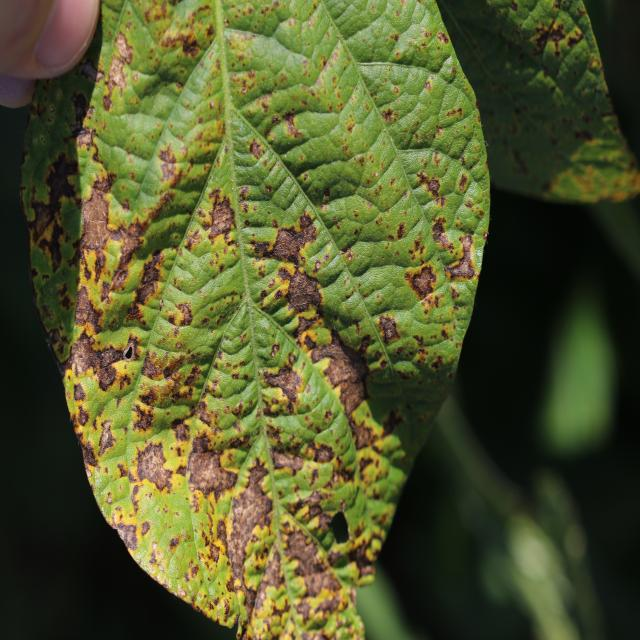Bacterial_Blight: (224, 458, 273, 601), (186, 439, 233, 498), (80, 183, 112, 262), (43, 150, 79, 217), (320, 345, 366, 397), (102, 36, 134, 105), (278, 520, 323, 569), (130, 250, 166, 309), (209, 180, 240, 248), (134, 439, 173, 493), (262, 363, 303, 410), (143, 187, 185, 229), (286, 267, 323, 313), (271, 226, 313, 266), (444, 234, 479, 282), (113, 227, 144, 277), (299, 570, 342, 606), (347, 532, 379, 577), (73, 284, 100, 333), (69, 332, 99, 376), (270, 450, 308, 477), (31, 199, 55, 239), (156, 150, 182, 186), (410, 265, 435, 298), (97, 420, 118, 457), (376, 314, 401, 344), (96, 361, 120, 392), (131, 404, 155, 434), (70, 91, 89, 128), (431, 218, 453, 248), (114, 32, 134, 63), (116, 523, 138, 550), (283, 114, 303, 139), (78, 59, 98, 83), (174, 302, 193, 327), (313, 442, 335, 463), (93, 173, 113, 196), (82, 438, 97, 467), (76, 128, 94, 151), (112, 268, 130, 290), (159, 145, 178, 165), (182, 38, 200, 58), (459, 233, 474, 256), (425, 177, 442, 197), (207, 541, 221, 564), (249, 139, 265, 159), (73, 381, 87, 403), (381, 107, 397, 124), (457, 172, 469, 192), (445, 105, 462, 119), (50, 327, 61, 345), (395, 222, 406, 239), (436, 31, 449, 45), (102, 93, 112, 111), (140, 520, 151, 536), (122, 344, 133, 360), (169, 535, 180, 550), (270, 343, 280, 358), (347, 250, 354, 261), (56, 90, 62, 99), (49, 105, 55, 113)
Soybean: (21, 0, 491, 640)
